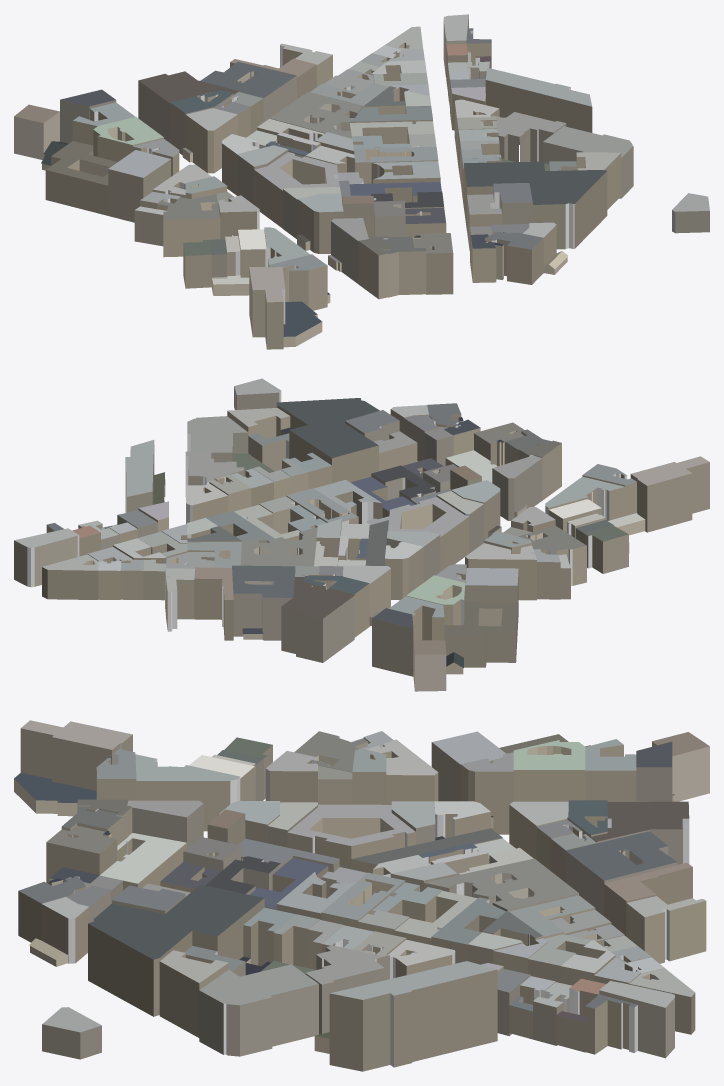
The picture shows the model from 3 angles, top to bottom: view 1: azimuth 30°, elevation 25°; view 2: azimuth 150°, elevation 25°; view 3: azimuth 270°, elevation 25°; orthographic projection. The views are drawn at different scales.
Parts seen in each view (by area): view 1: tuile; view 2: tuile; view 3: tuile.
Boxes of the visible parts, <box> form: tuile: <box>14,14,709,349</box>; tuile: <box>14,378,709,691</box>; tuile: <box>14,720,709,1071</box>.
Size of the model in its own units: 271 by 33.6 by 272.
